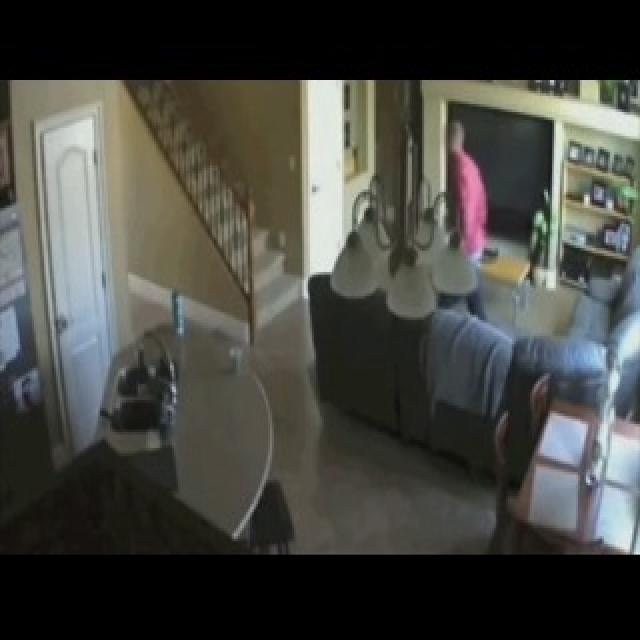thief: (438, 117, 500, 243)
